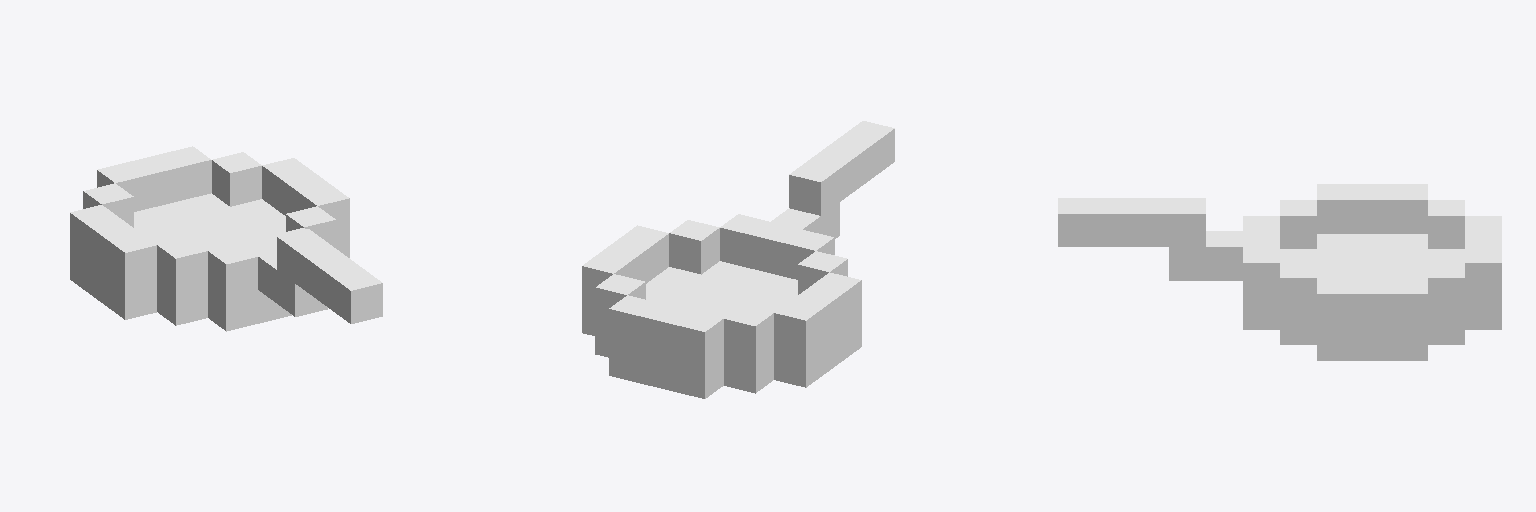
The model's file is prop_pan.obj.
3 renders of one model, left to right at view 1: azimuth 30°, elevation 25°; view 2: azimuth 150°, elevation 25°; view 3: azimuth 270°, elevation 25°, orthographic.
Visible parts, largest first — view 1: object 1; view 2: object 1; view 3: object 1.
Part boxes in pixels (bbox=[...]): object 1: bbox=[70, 146, 382, 331]; object 1: bbox=[582, 121, 894, 398]; object 1: bbox=[1058, 184, 1501, 360].
Size of the model in its own units: 0.7 by 0.3 by 1.2.